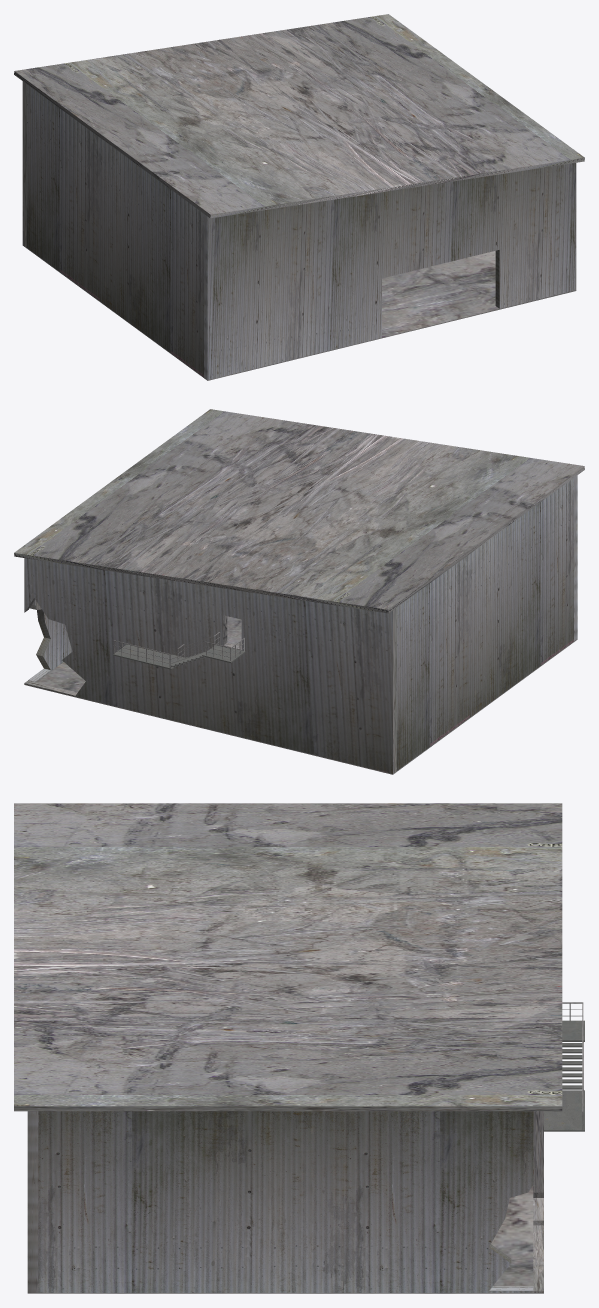
3 renders of one model, top to bottom at view 1: azimuth 30°, elevation 25°; view 2: azimuth 150°, elevation 25°; view 3: azimuth 270°, elevation 25°, orthographic. The views are drawn at different scales.
Visible parts, largest first — view 1: Warehouse_Building_Warehouse_Roof_Warehouse_Roof; view 2: Warehouse_Building_Warehouse_Roof_Warehouse_Roof; view 3: Warehouse_Building_Warehouse_Roof_Warehouse_Roof.
Part boxes in pixels (left/top/right/bottom): Warehouse_Building_Warehouse_Roof_Warehouse_Roof: left=14, top=14, right=584, bottom=380; Warehouse_Building_Warehouse_Roof_Warehouse_Roof: left=14, top=409, right=584, bottom=774; Warehouse_Building_Warehouse_Roof_Warehouse_Roof: left=14, top=803, right=584, bottom=1293.
Bounding box in the file's own units: 117 × 50.88 × 111.
